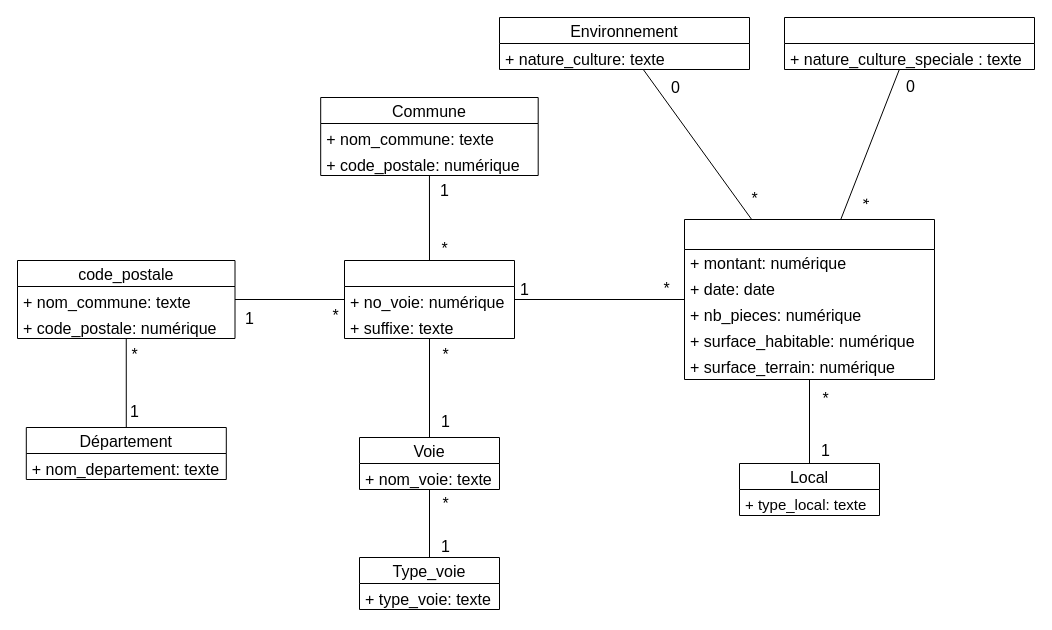
Image size: 1052x630. Some labels were removed from this diagram. The box of each missing label's shape, as (x1, y1, x2, y2) in pixels:
Adresse: (344, 260, 514, 338)
Environnement_speciale: (784, 16, 1034, 70)
Vente_immobilière: (684, 218, 934, 380)
